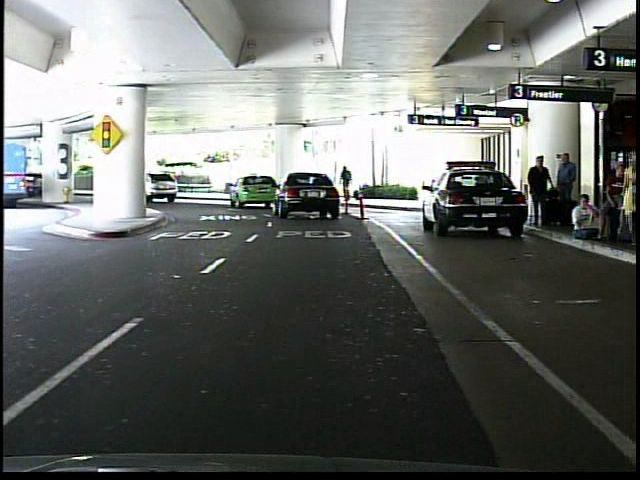person: (552, 148, 581, 230), (525, 152, 554, 229), (340, 162, 356, 205)
